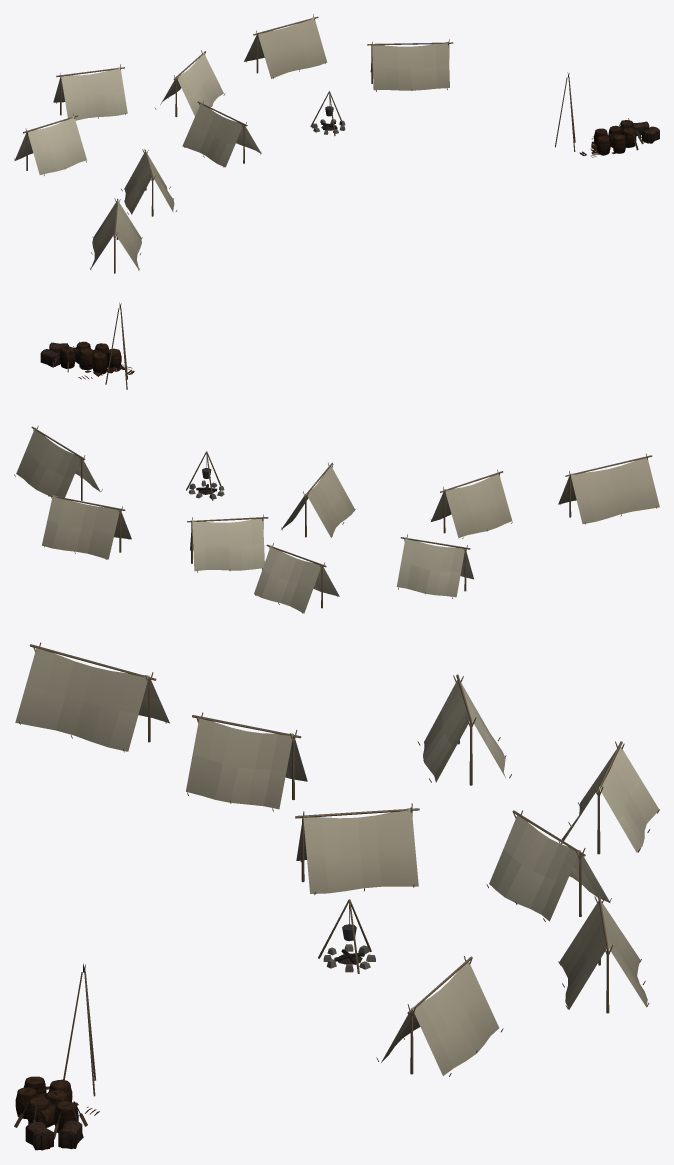
Rendered from camp.glb.
3 renders of one model, top to bottom at view 1: azimuth 30°, elevation 25°; view 2: azimuth 150°, elevation 25°; view 3: azimuth 270°, elevation 25°, orthographic. The views are drawn at different scales.
Parts seen in each view (by area): view 1: camp_shelters, camp_casks, camp_casks_open, camp_fire; view 2: camp_shelters, camp_casks, camp_casks_open, camp_fire; view 3: camp_shelters, camp_casks_open, camp_casks, camp_fire.
Part boxes in pixels (x1,y1,x2,y2): camp_shelters: (14,14,453,273); camp_casks: (594,120,659,155); camp_casks_open: (555,72,655,157); camp_fire: (310,91,345,136); camp_shelters: (14,426,659,613); camp_casks: (40,342,121,374); camp_casks_open: (45,302,134,389); camp_fire: (186,451,224,500); camp_shelters: (15,642,659,1076); camp_casks_open: (14,963,99,1150); camp_casks: (15,1076,78,1150); camp_fire: (318,899,375,973).
Bounding box in the file's own units: 110 × 14.29 × 65.73.
